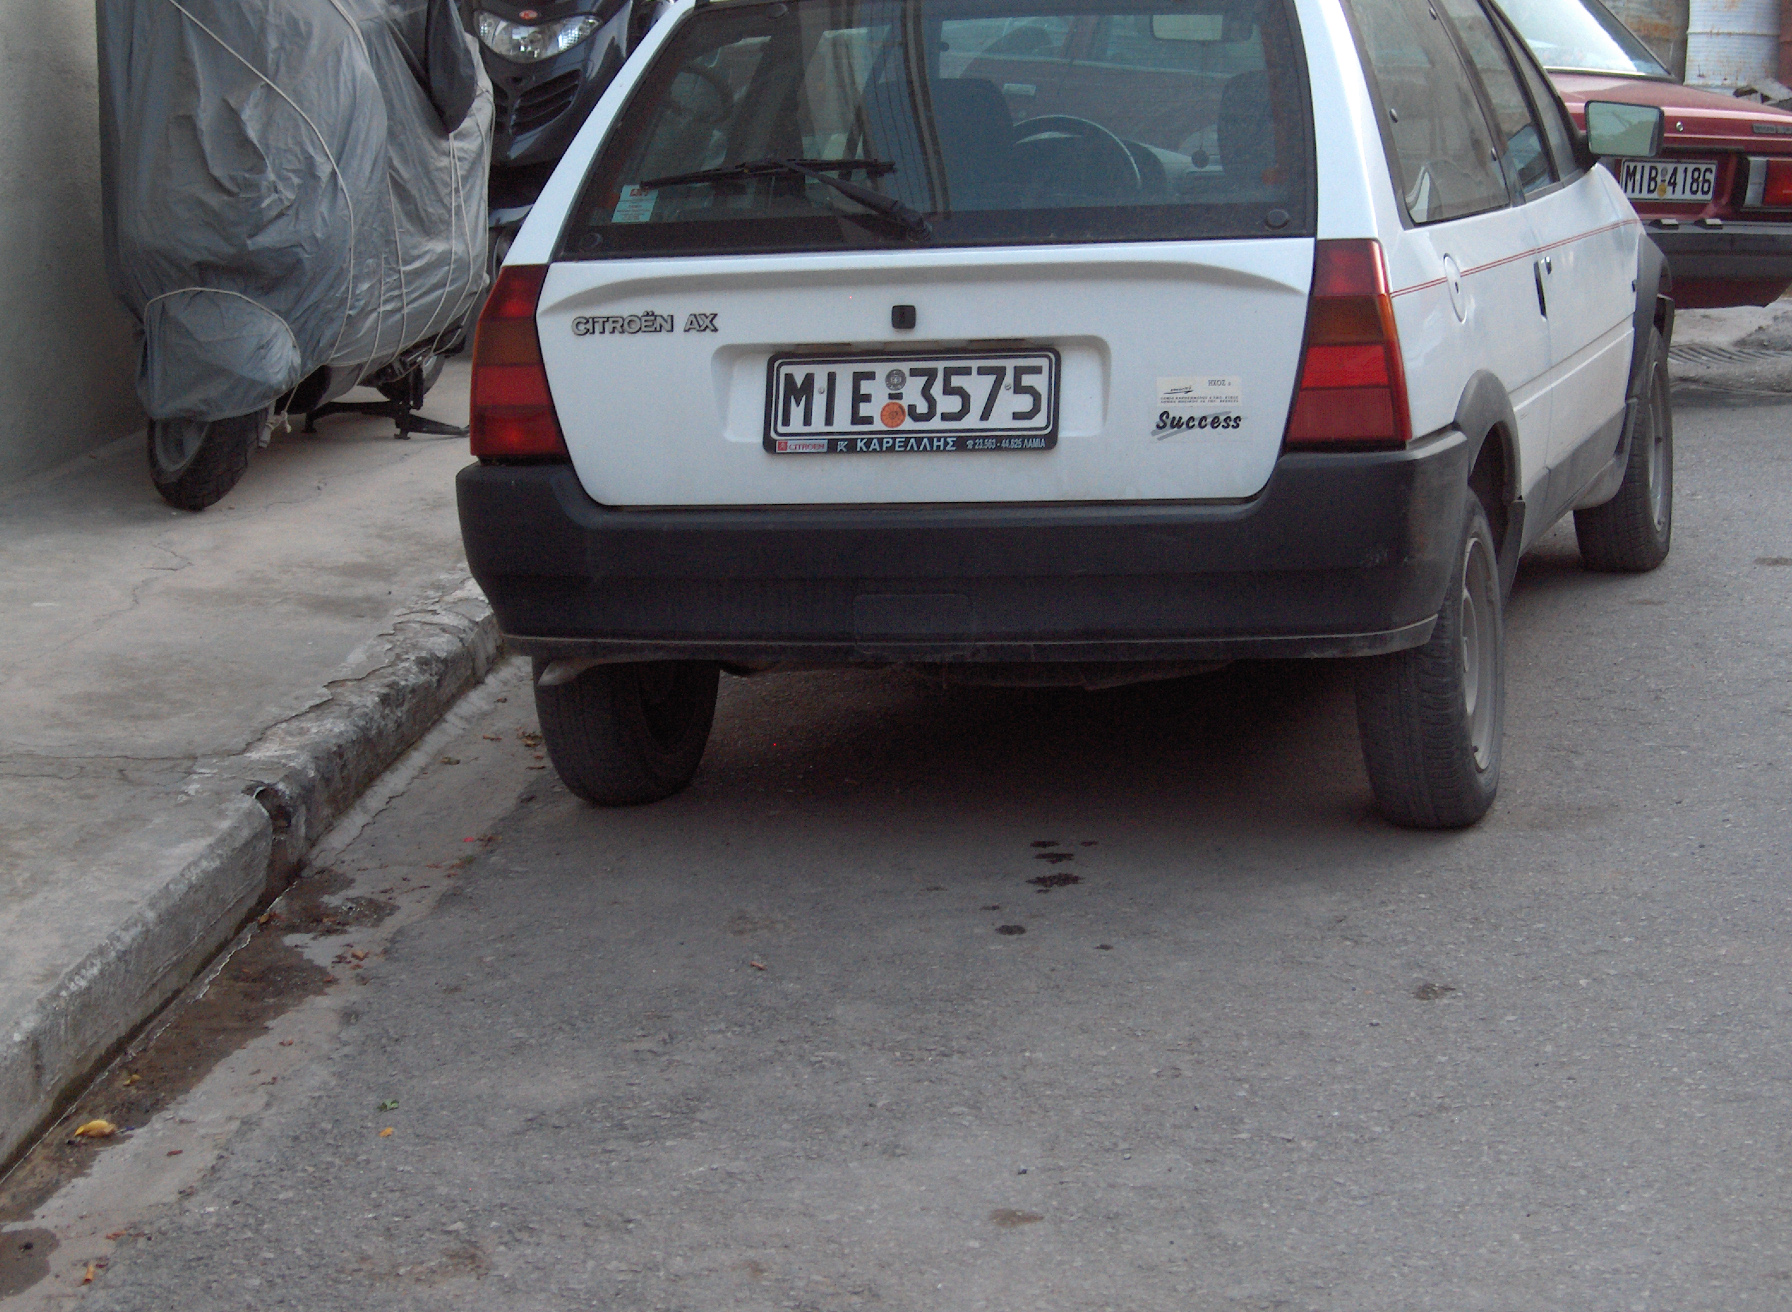licenseplate: (767, 350, 1056, 441)
